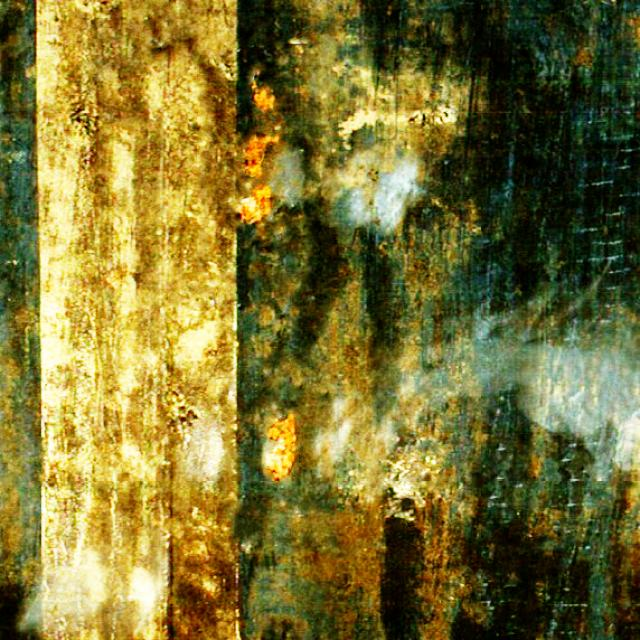Corrosion: (264, 413, 295, 481), (243, 135, 278, 176), (239, 185, 271, 222), (251, 79, 275, 109)
